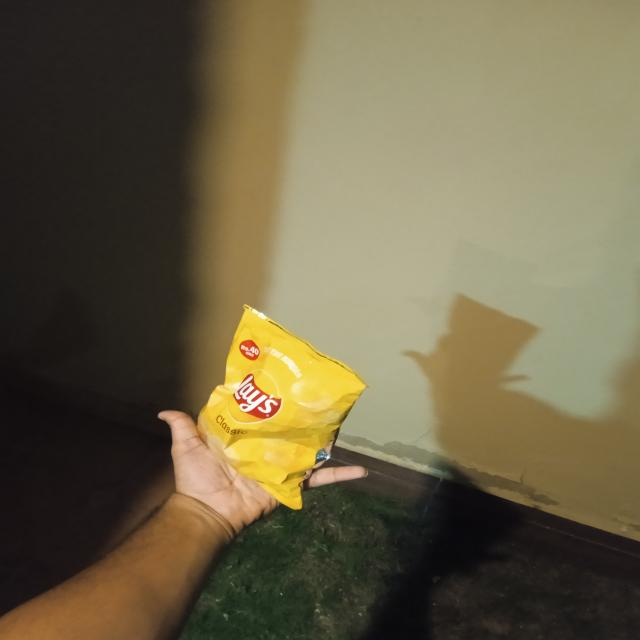Plastic: (201, 311, 371, 511)
